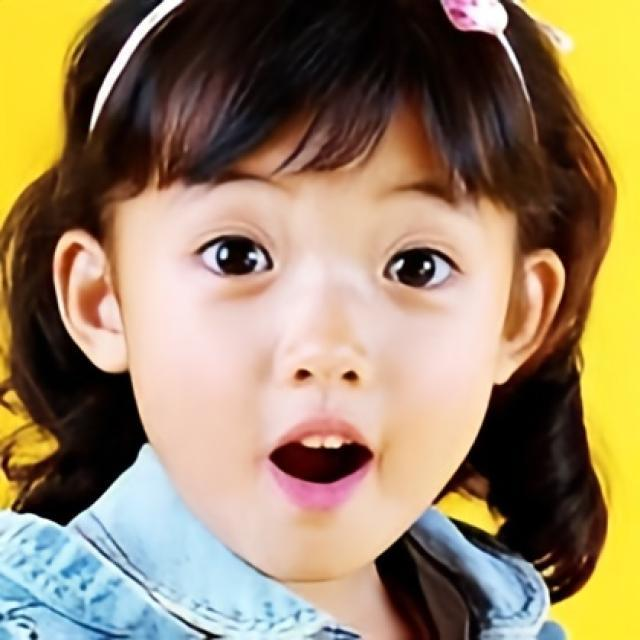surprise: (114, 49, 518, 582)
